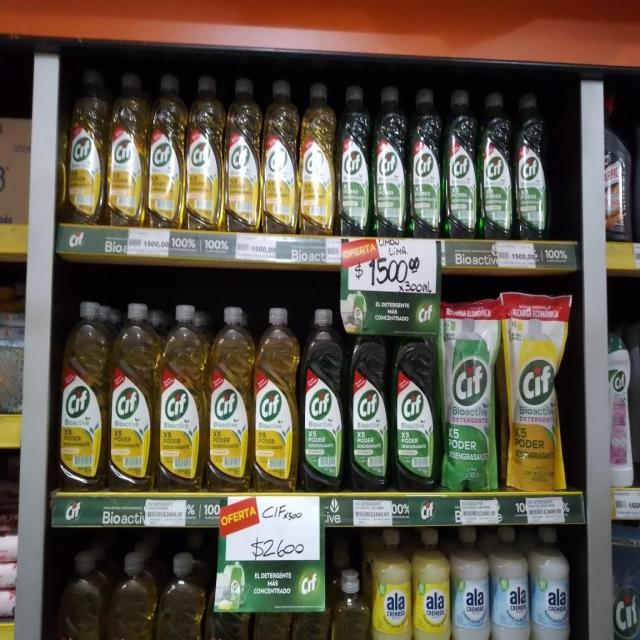ala_conc_amarillo: (50, 546, 102, 640), (105, 546, 152, 640), (155, 550, 204, 640), (206, 570, 250, 640), (292, 603, 329, 640), (251, 607, 291, 640)
ala_crem_amarillo: (371, 527, 411, 640), (412, 527, 450, 640)
ala_crem_blanco: (531, 525, 572, 640), (490, 525, 530, 640), (452, 525, 491, 640)
cif_conc_bot_amarilla: (58, 297, 107, 490), (157, 304, 205, 492), (109, 300, 155, 492), (253, 304, 299, 492), (208, 304, 252, 492), (67, 68, 106, 226), (107, 70, 146, 228), (186, 74, 223, 232), (148, 72, 184, 230), (225, 76, 261, 233), (262, 78, 298, 235), (299, 81, 335, 236)
cif_conc_botella_verde: (301, 307, 345, 492), (392, 331, 439, 492), (348, 321, 389, 492), (514, 92, 550, 241), (372, 85, 407, 237), (337, 84, 371, 237), (408, 86, 442, 238), (444, 88, 478, 239), (480, 90, 512, 240), (614, 543, 640, 640), (634, 87, 640, 245)
cif_conc_sachet_amarillo: (503, 292, 564, 493)
cif_conc_sachet_verde: (442, 298, 499, 492)
odex: (330, 568, 369, 640)
